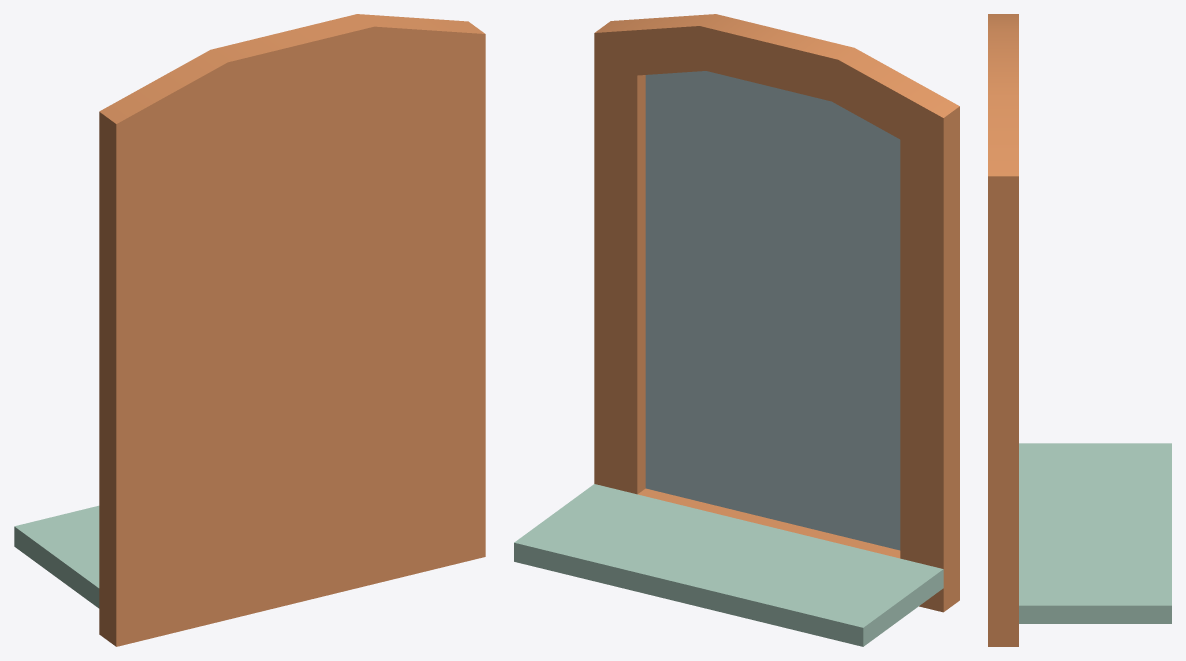
The model's file is bathroomMirror.fbx.
3 views of the same model, side by side, from view 1: azimuth 30°, elevation 25°; view 2: azimuth 150°, elevation 25°; view 3: azimuth 270°, elevation 25° (orthographic). The views are drawn at different scales.
Visible parts, largest first — view 1: bathroomMirror; view 2: bathroomMirror; view 3: bathroomMirror.
Boxes of the visible parts, x1=… form: bathroomMirror: x1=14, y1=14, x2=485, y2=646; bathroomMirror: x1=514, y1=14, x2=959, y2=646; bathroomMirror: x1=988, y1=14, x2=1171, y2=646.
Bounding box in the file's own units: 3.01 × 4.35 × 1.44.
